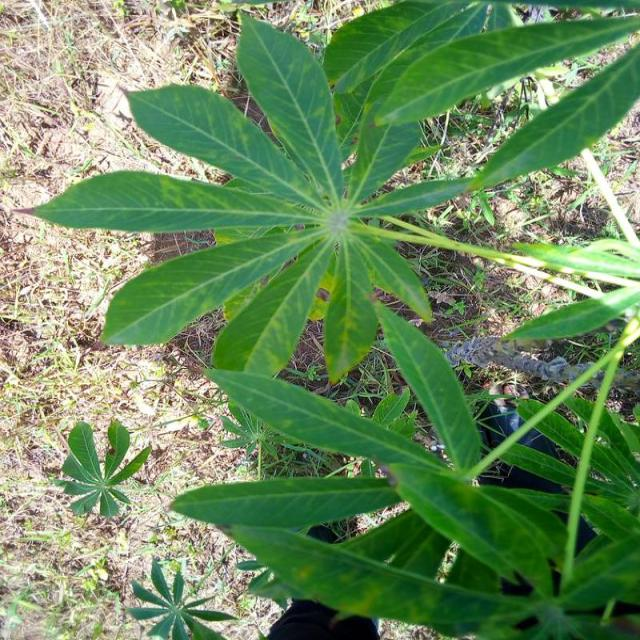cassava leaf: (14, 1, 638, 636)
